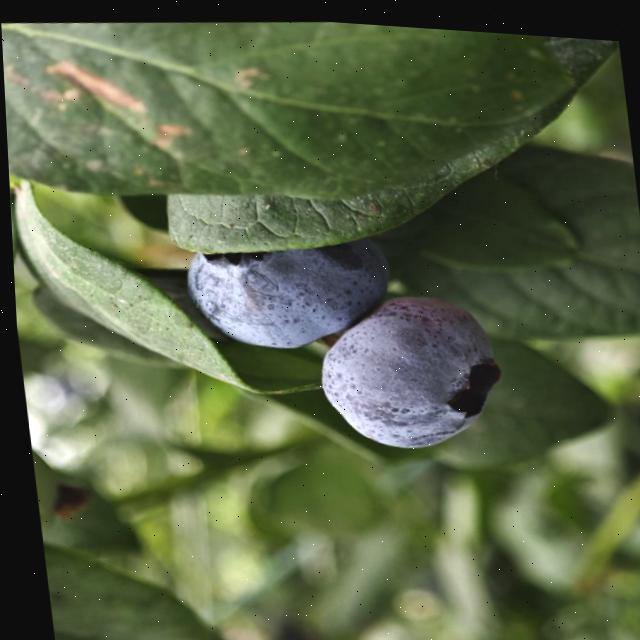RipeBlueBerry: (304, 282, 500, 452), (181, 231, 394, 355)
